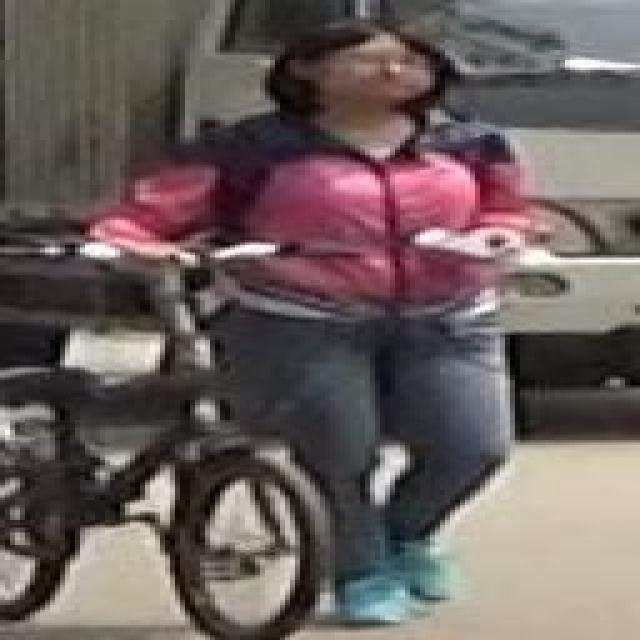adult: (108, 33, 548, 610)
